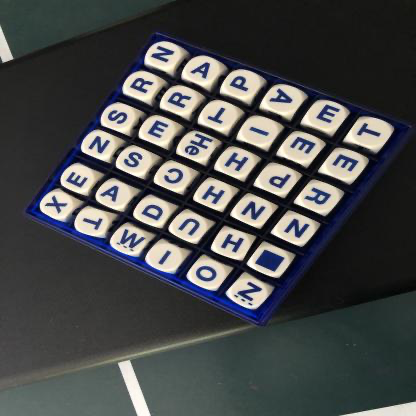a: (267, 86, 305, 113), (185, 58, 223, 84), (96, 182, 132, 209)
c: (156, 164, 193, 191)
d: (135, 199, 171, 226)
e: (308, 102, 346, 131), (327, 151, 365, 180), (284, 134, 322, 162), (142, 117, 177, 144), (62, 167, 96, 193)
h: (198, 181, 234, 209), (216, 230, 252, 258), (219, 150, 256, 177)
he: (179, 132, 216, 161)
i: (148, 245, 185, 273), (243, 118, 278, 146)
n: (277, 216, 316, 245), (236, 198, 274, 226), (148, 42, 183, 68), (83, 132, 118, 158)
o: (190, 261, 229, 290)
p: (260, 166, 297, 194), (224, 71, 261, 98)
r: (300, 184, 342, 213), (164, 87, 200, 113), (125, 73, 160, 99)
s: (103, 104, 137, 131), (119, 148, 153, 175)
t: (352, 119, 393, 148), (201, 102, 239, 130), (77, 209, 111, 235)
u: (172, 213, 209, 240)
w: (112, 227, 150, 256)
wild: (252, 248, 292, 277)
x: (41, 192, 75, 219)
z: (230, 280, 269, 309)
